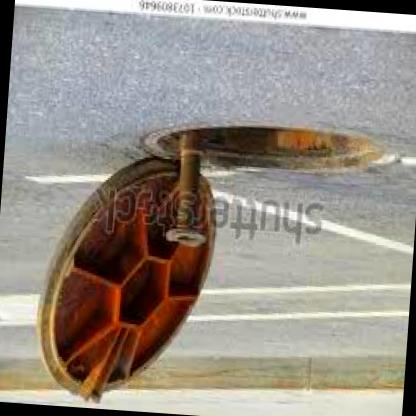manholes: (27, 34, 406, 416)
